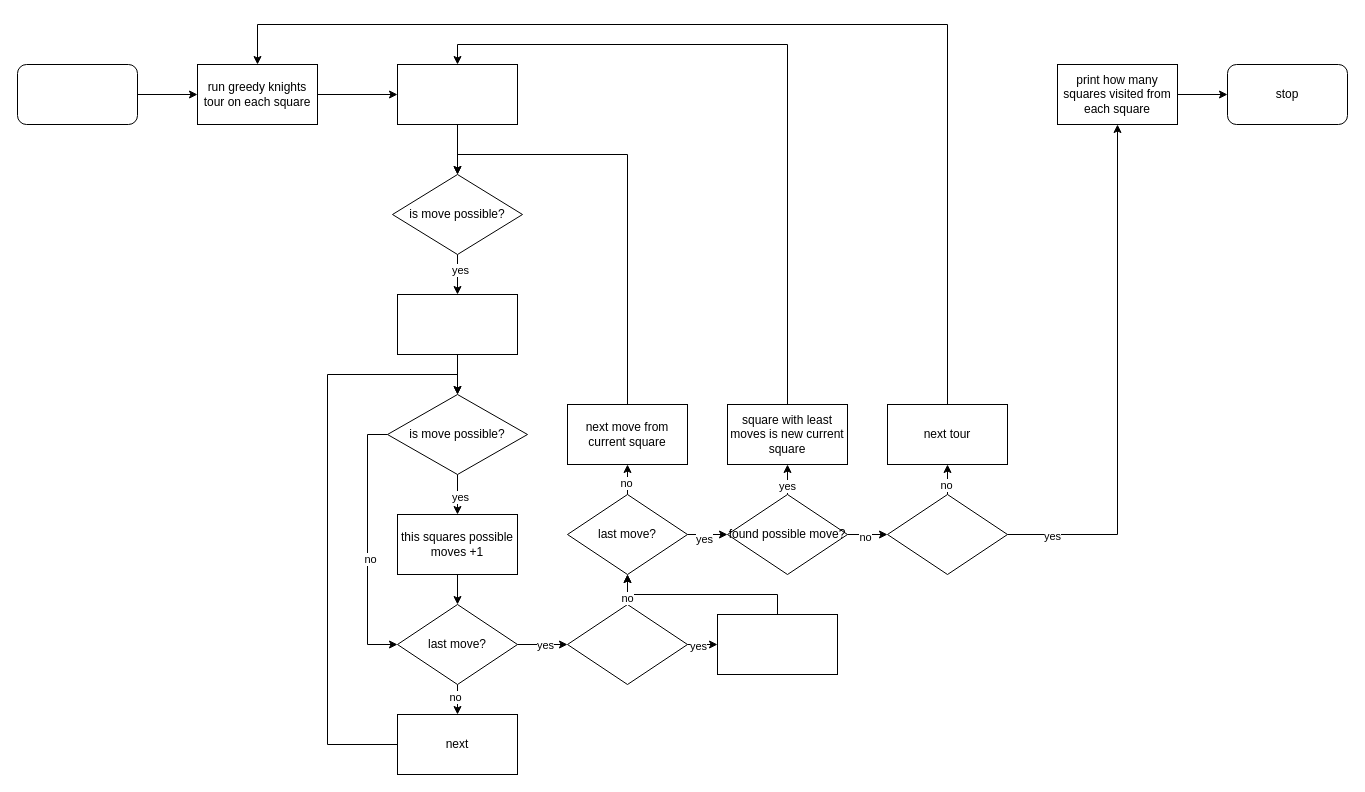
This 1365x792 diagram has some shape labels left out. Each missing label, with the centre of its shape:
"for each move from current square" belongs at (457,94).
"for each possible move from this square" belongs at (457,324).
"has less moves than min_moves" belongs at (627,644).
"last tour?" belongs at (947,534).
"new min_moves" belongs at (777,644).
"start" belongs at (77,94).
